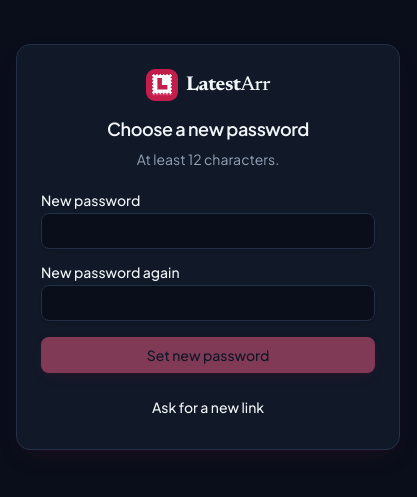
Test: ResetPasswordPage › explains an expired link
Type "a-brand-new-password" into the password field labelled "New password" at [208, 231], box [41, 213, 375, 249]
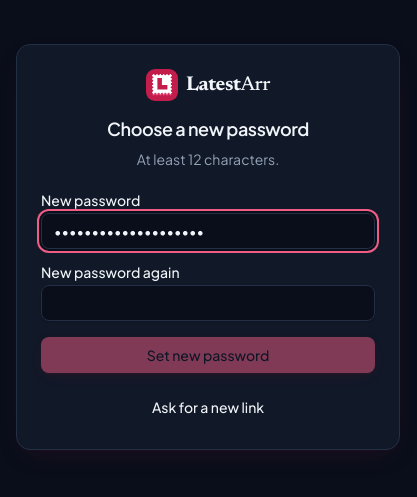
Type "a-brand-new-password" into the password field labelled "New password again" at [208, 303], box [41, 285, 375, 321]
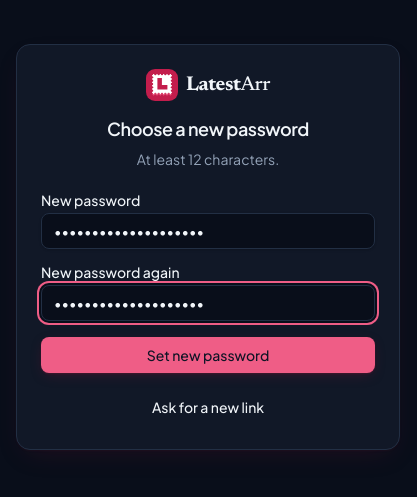
Click the button "Set new password" at [208, 355], box [41, 337, 375, 373]
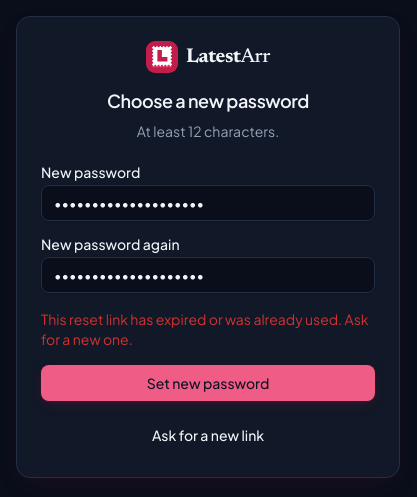
Expected: the link "Ask for a new link" is shown, [152, 426, 264, 444]
Result: the message shows "expired or was already used" at [41, 310, 368, 348]
